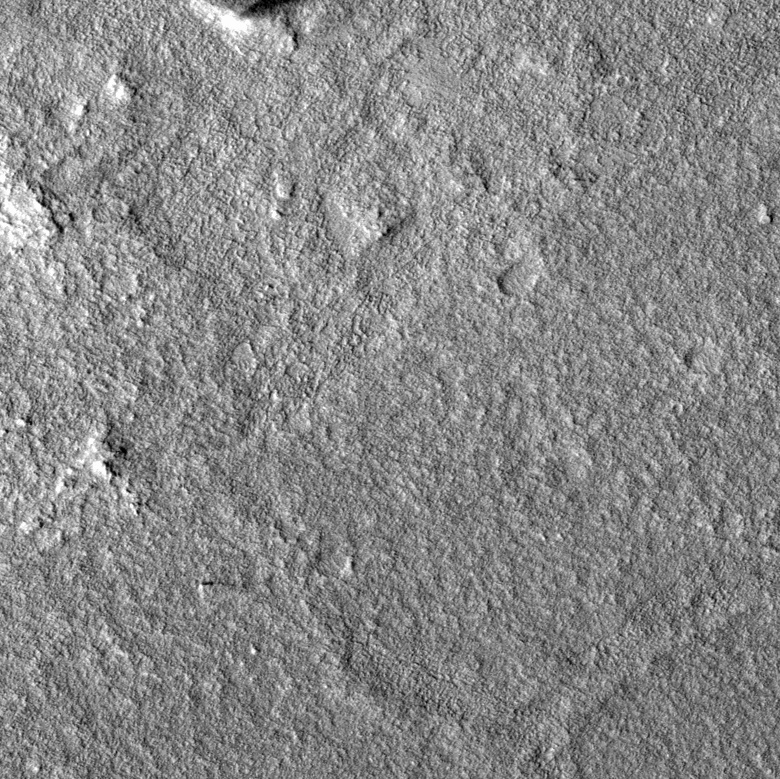dust_devil: (216, 1, 307, 36)
